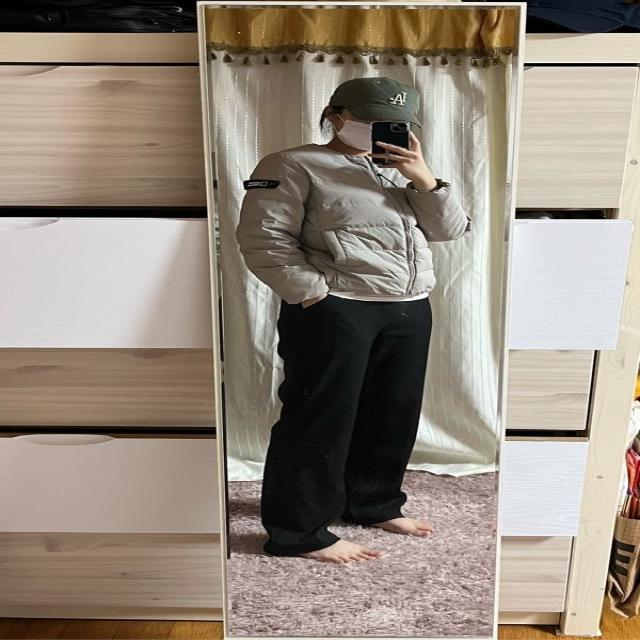padding: (231, 147, 469, 301)
trainingpants: (254, 288, 425, 554)
